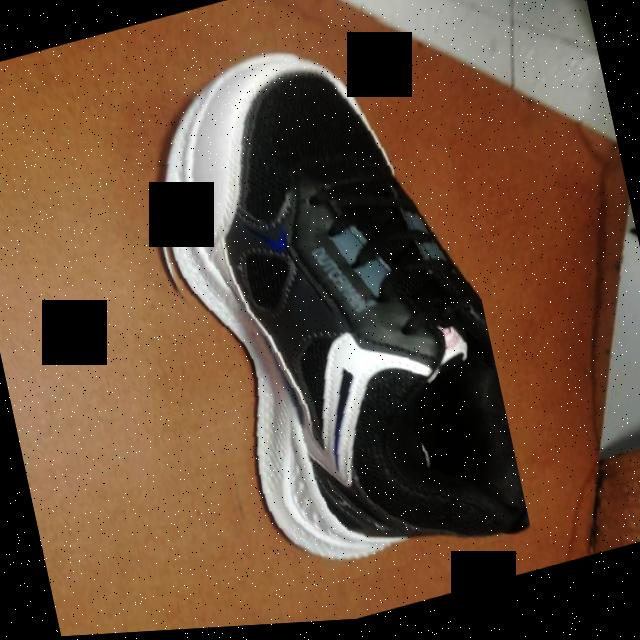shoe: (122, 7, 531, 619)
